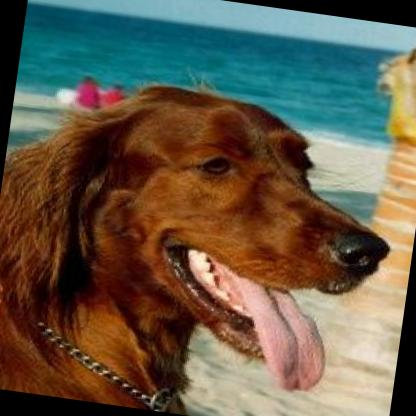Irish_setter: (0, 61, 407, 416)
